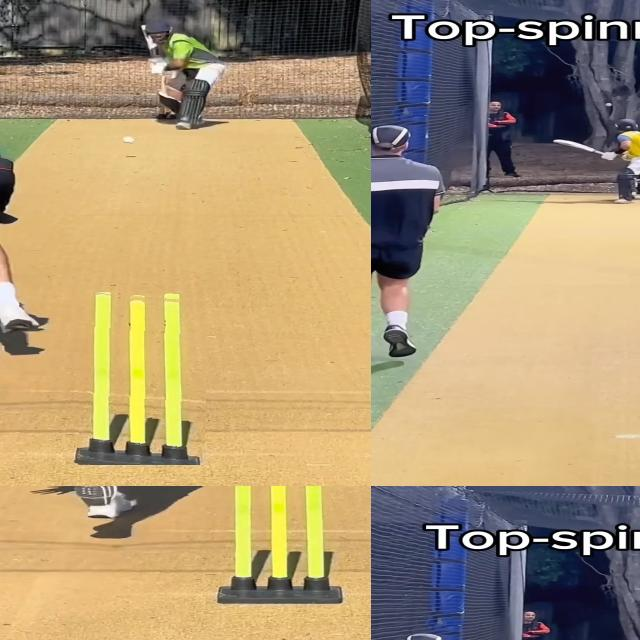Cricket ball: (119, 135, 139, 145), (605, 102, 612, 106)
Stumps: (74, 291, 207, 465)
